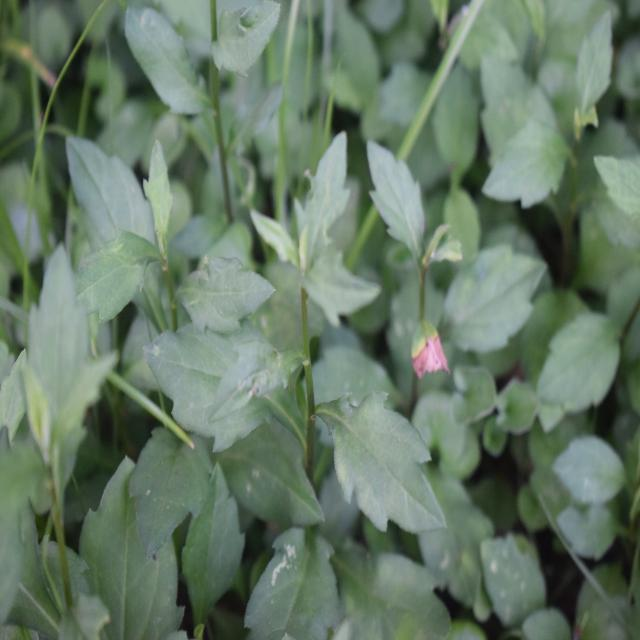Indian aster: (208, 152, 436, 537)
